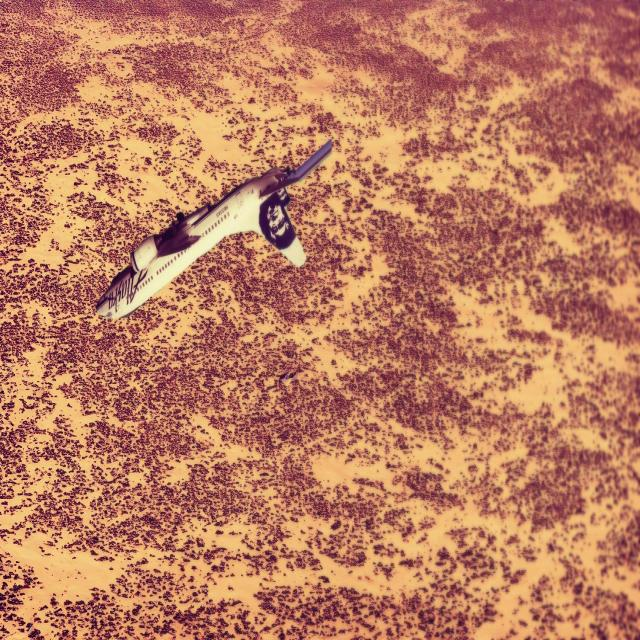airplane: (95, 137, 333, 321)
